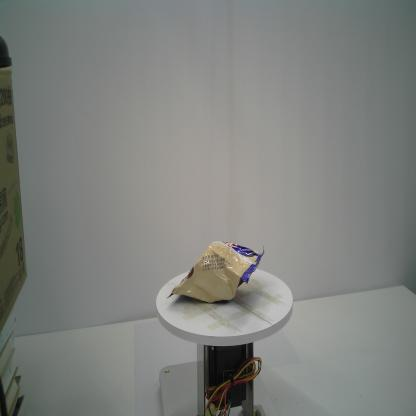Dessert: (166, 240, 264, 303)
